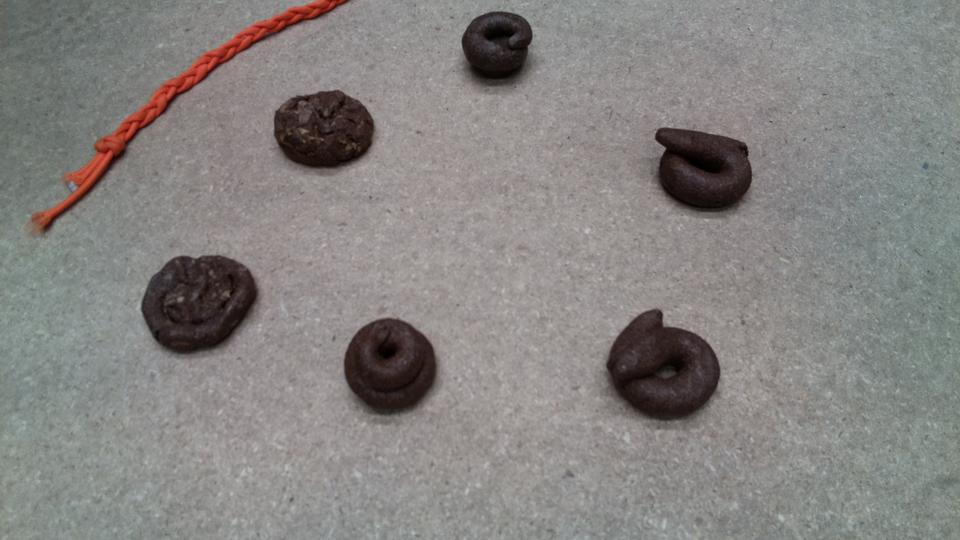poop: (604, 305, 726, 423), (137, 251, 263, 356), (341, 316, 438, 416), (653, 123, 754, 214), (270, 86, 377, 171), (460, 10, 533, 83)
rope: (30, 1, 335, 232)
